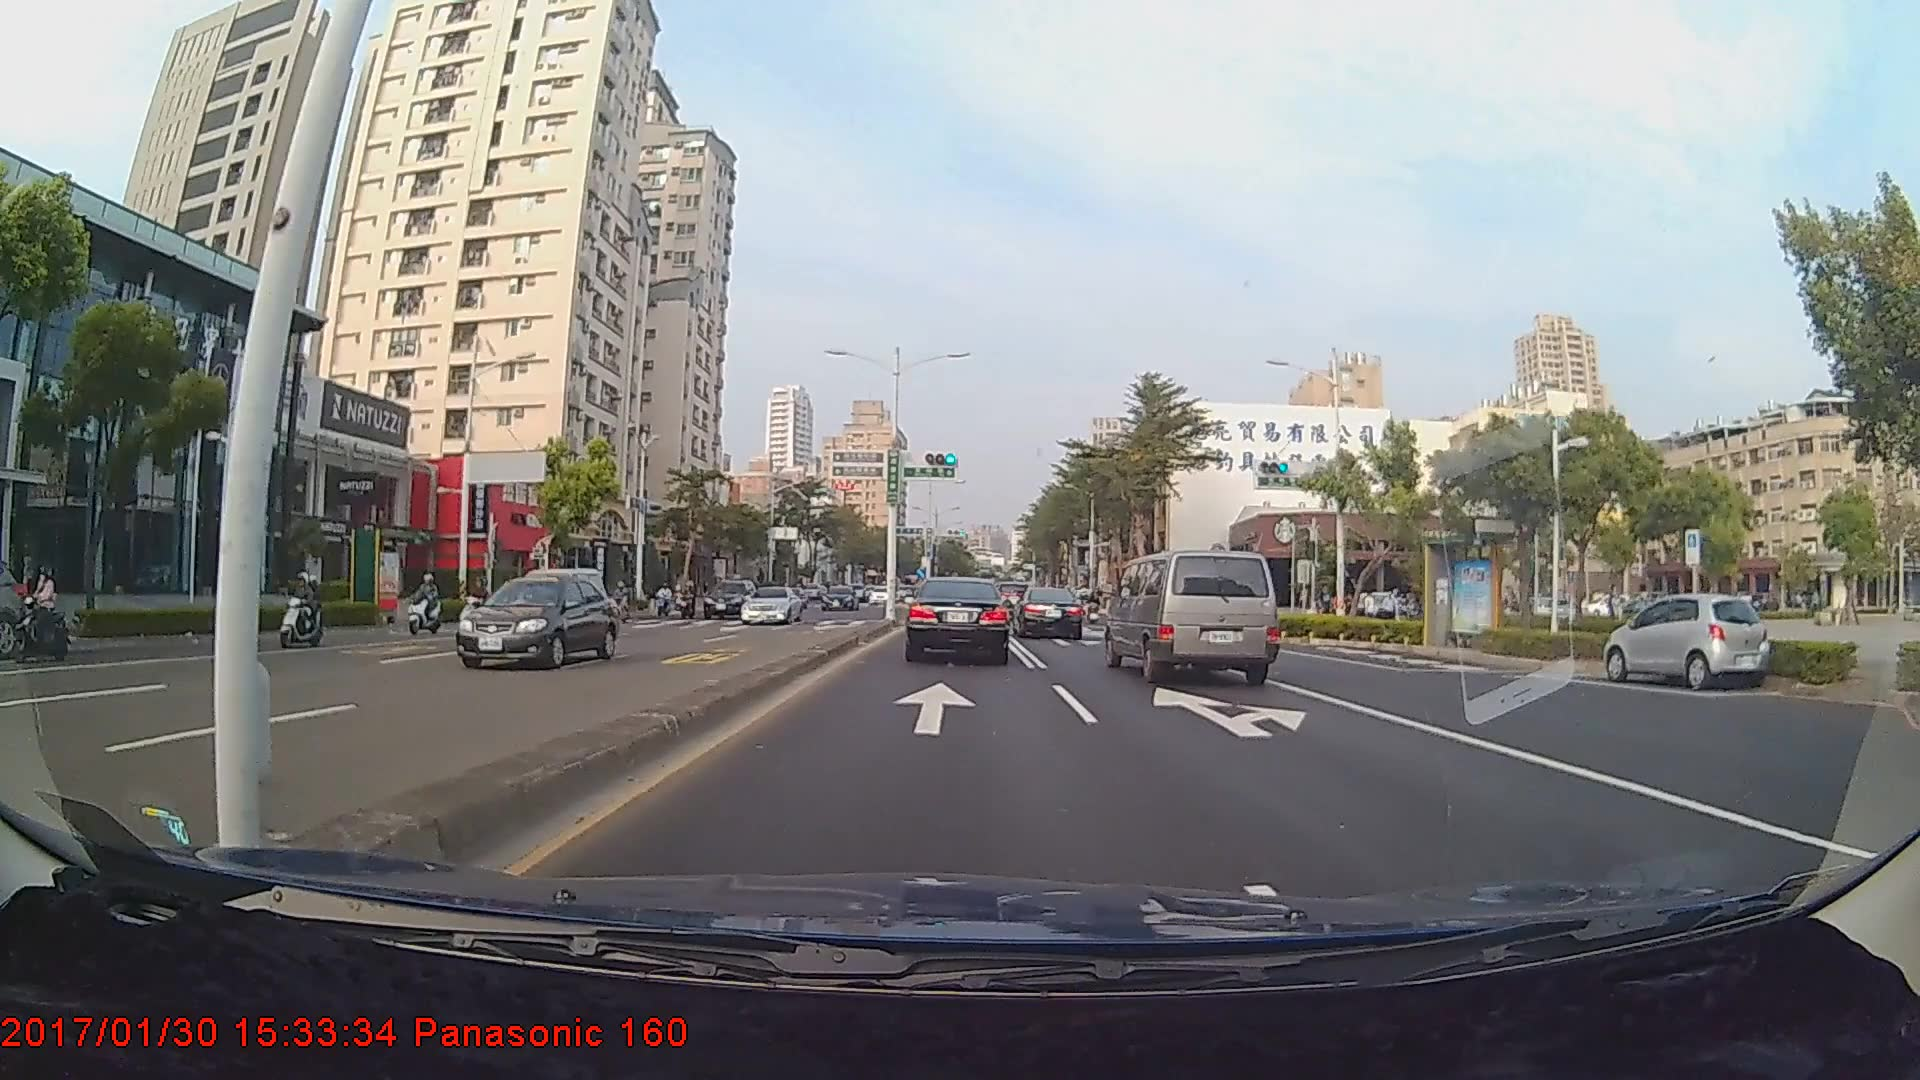rider: (7, 563, 83, 666), (276, 572, 330, 648), (405, 570, 448, 638)
vehicle: (1105, 547, 1279, 686), (1604, 590, 1768, 690), (455, 575, 623, 669), (906, 576, 1008, 662), (489, 567, 604, 631), (1011, 586, 1084, 640), (737, 583, 800, 624), (701, 577, 756, 618), (820, 584, 860, 613)
